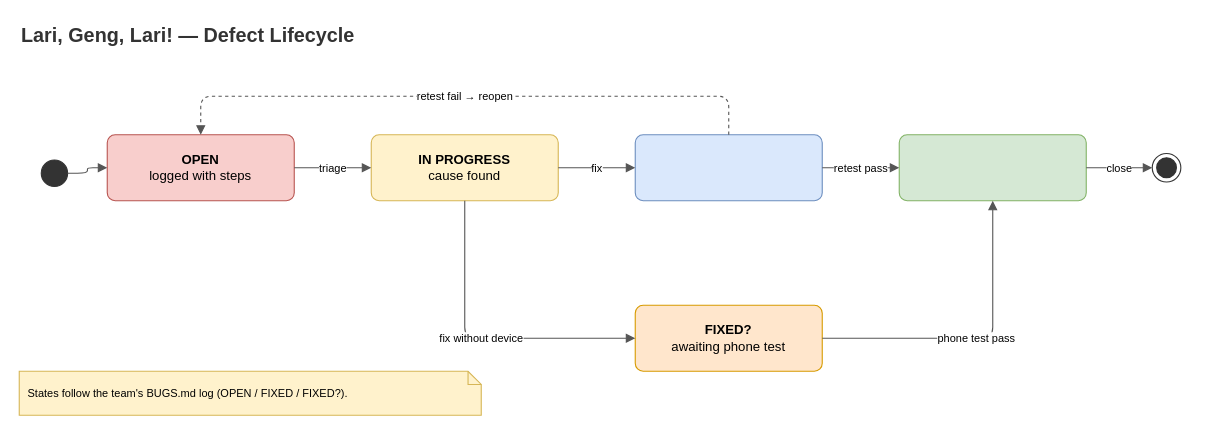
The diagram is 1227 pixels wide and 435 high, and some of its shapes have lost their labels. Each missing label, with the centre of its shape:
FIXED commit linked: point (728, 167)
VERIFIED retest passed: point (992, 167)
